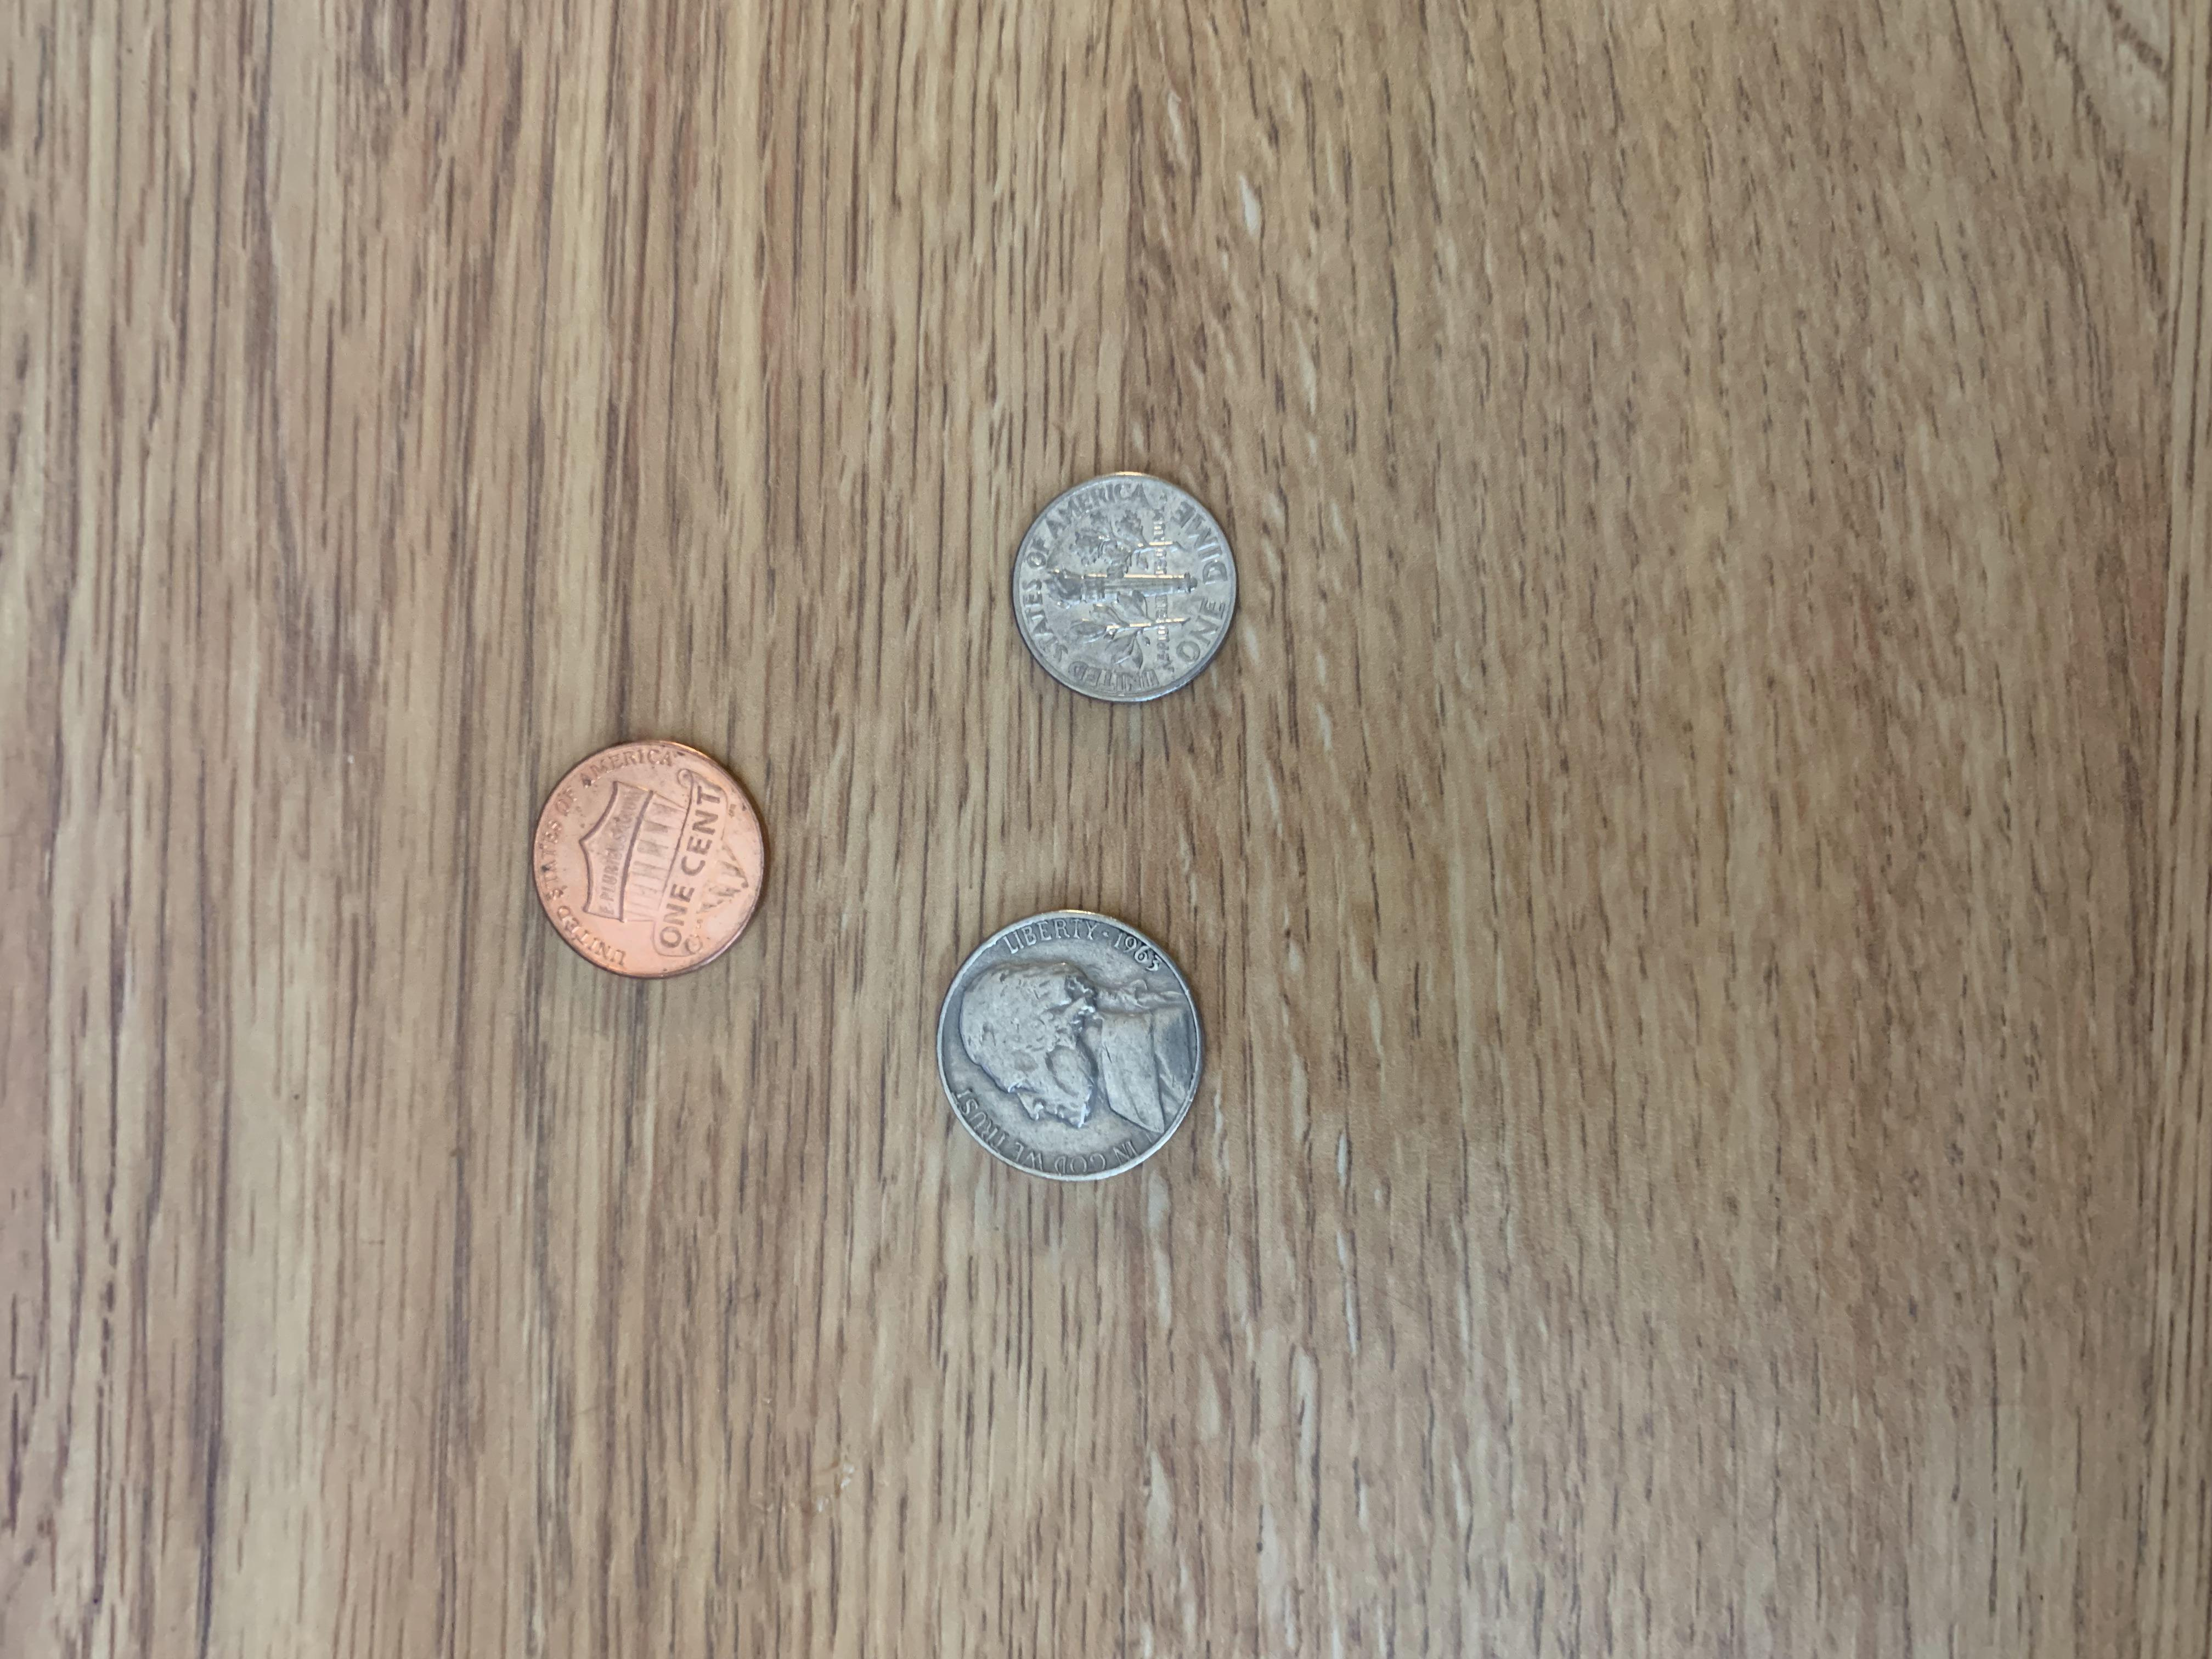Dime: (996, 462, 1252, 714)
Nickel: (923, 899, 1212, 1197)
Penny: (523, 728, 772, 990)
